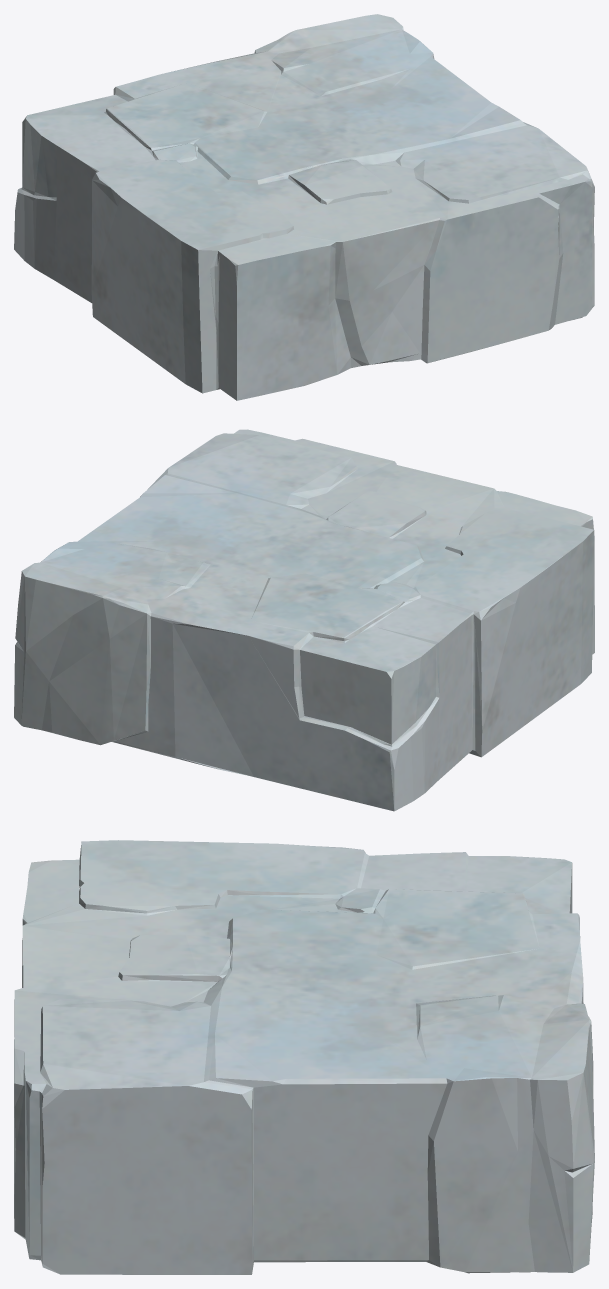
Rendered from P_RockCubic_Metric_8x8x3.obj.
The picture shows the model from 3 angles, top to bottom: view 1: azimuth 30°, elevation 25°; view 2: azimuth 150°, elevation 25°; view 3: azimuth 270°, elevation 25°; orthographic projection. The views are drawn at different scales.
Size of the model in its own units: 16.79 by 6.32 by 16.64.
